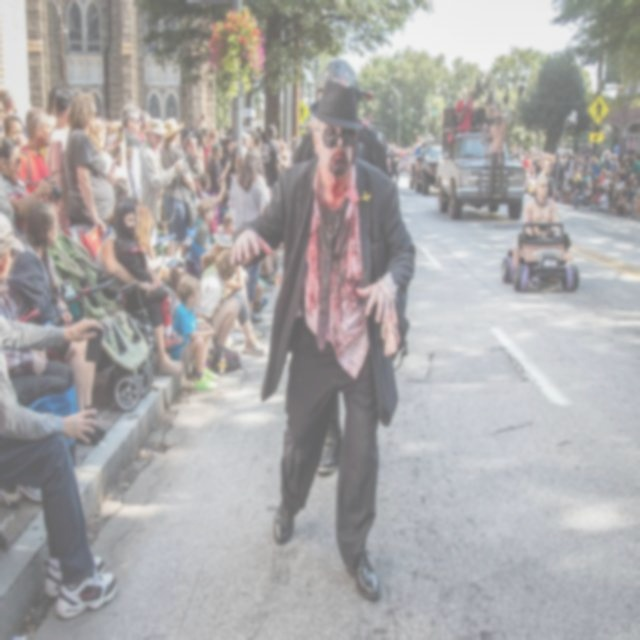pessoa: (228, 75, 418, 601), (0, 208, 117, 618), (2, 199, 108, 448), (0, 222, 81, 504), (96, 195, 186, 378), (282, 50, 396, 179), (112, 198, 185, 378), (228, 145, 273, 323), (63, 90, 117, 237), (200, 238, 266, 356), (137, 116, 185, 256), (0, 136, 62, 238), (170, 274, 220, 396), (132, 203, 176, 339), (12, 105, 54, 238), (158, 115, 196, 258), (193, 248, 240, 358), (169, 274, 211, 378), (93, 102, 135, 198), (522, 172, 562, 241), (192, 173, 230, 238), (482, 109, 508, 202), (206, 141, 232, 227), (0, 84, 28, 152), (48, 88, 76, 154), (260, 122, 284, 198), (618, 150, 640, 220), (219, 136, 240, 192), (509, 144, 561, 166), (260, 242, 284, 288), (182, 134, 205, 180), (548, 165, 574, 204), (454, 86, 474, 135), (398, 136, 422, 176), (572, 150, 600, 184), (189, 224, 210, 269), (572, 183, 604, 211), (178, 125, 208, 154), (276, 132, 298, 168), (0, 163, 13, 223), (134, 104, 151, 148), (203, 130, 217, 176), (386, 140, 400, 184), (46, 85, 59, 130), (608, 170, 620, 218), (588, 188, 608, 215), (572, 183, 596, 205), (484, 86, 499, 118), (598, 169, 611, 203), (196, 125, 207, 162), (558, 152, 568, 192), (241, 124, 252, 160), (160, 264, 182, 282), (609, 153, 619, 191), (524, 165, 536, 195), (593, 96, 604, 122), (252, 126, 266, 145), (190, 112, 206, 126), (612, 140, 620, 166), (596, 169, 606, 188), (602, 151, 611, 172), (536, 165, 548, 178), (566, 149, 573, 165), (225, 125, 232, 140)
